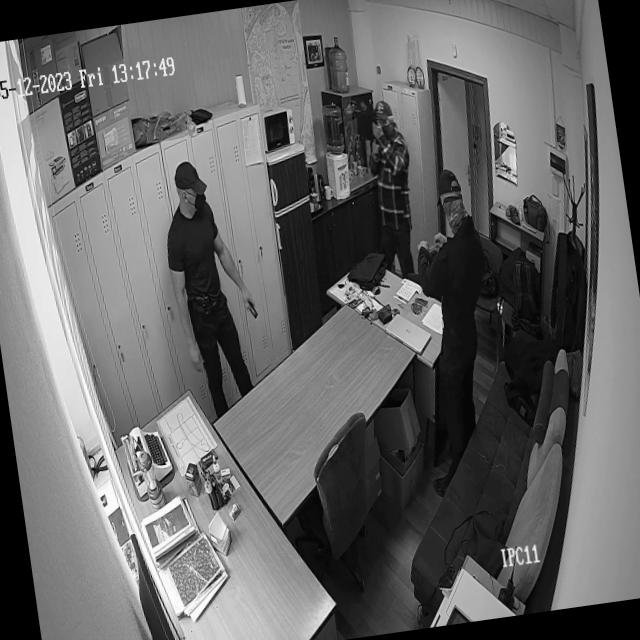gun: (368, 107, 386, 157)
person: (390, 164, 520, 502), (154, 155, 271, 424)
person with a gun: (359, 98, 427, 284)
